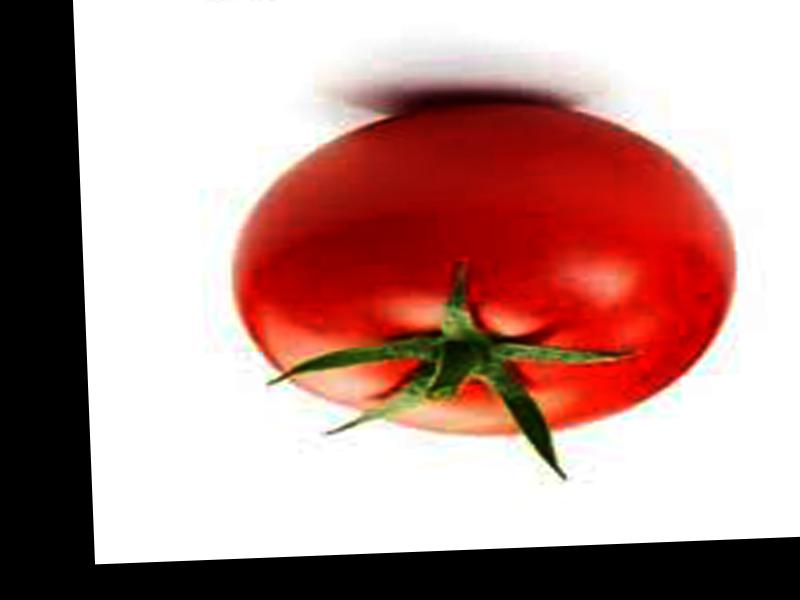Tomato: (233, 90, 735, 444)
